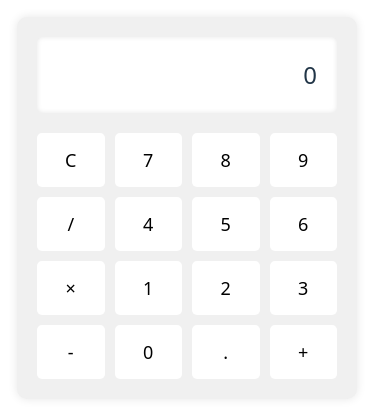
Test: Calculator › concatenates multiple digits
The image size is (375, 417).
What coordinates should you click on to do the following:
click the button with test id "digit-1"
I would click on:
 (148, 288)
Its box is top-left (114, 261), bottom-right (182, 315).
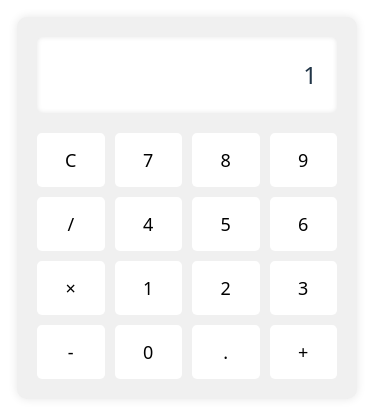
What coordinates should you click on to do the following:
click the button with test id "digit-2"
I would click on:
 (226, 288)
Its box is top-left (192, 261), bottom-right (260, 315).
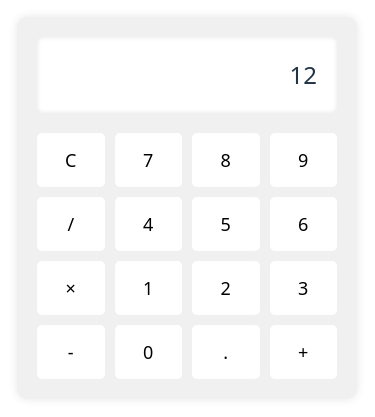
What coordinates should you click on to do the following:
click the button with test id "digit-3"
I would click on:
 (303, 288)
Its box is top-left (270, 261), bottom-right (337, 315).
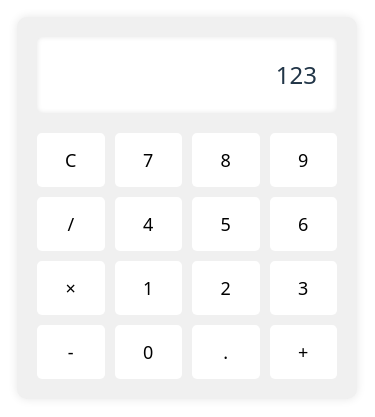
expect the text with test id "display" reads "123": met, box top-left (276, 58), bottom-right (317, 91)
